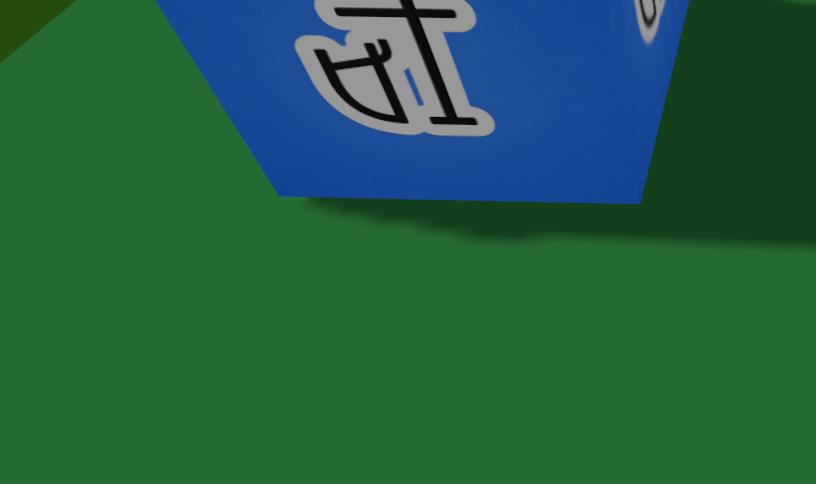KFS_REAL: (150, 0, 694, 206), (295, 0, 494, 136), (633, 0, 666, 44)
